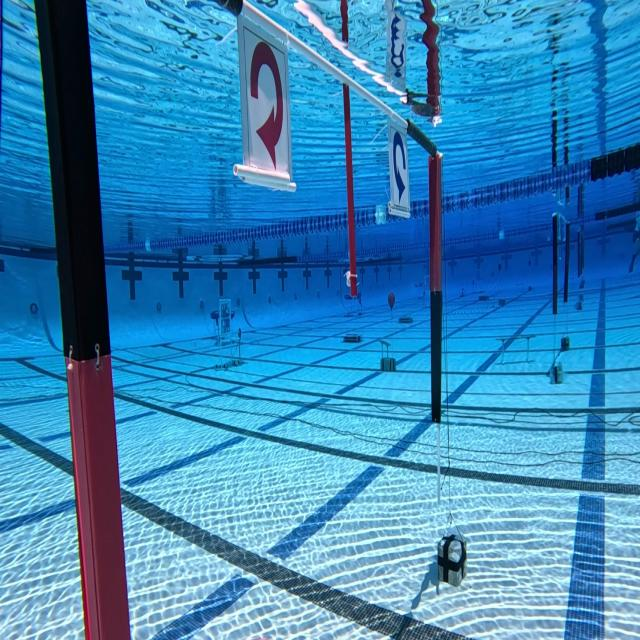blue_side: (389, 124, 412, 221)
red_side: (238, 28, 290, 185)
